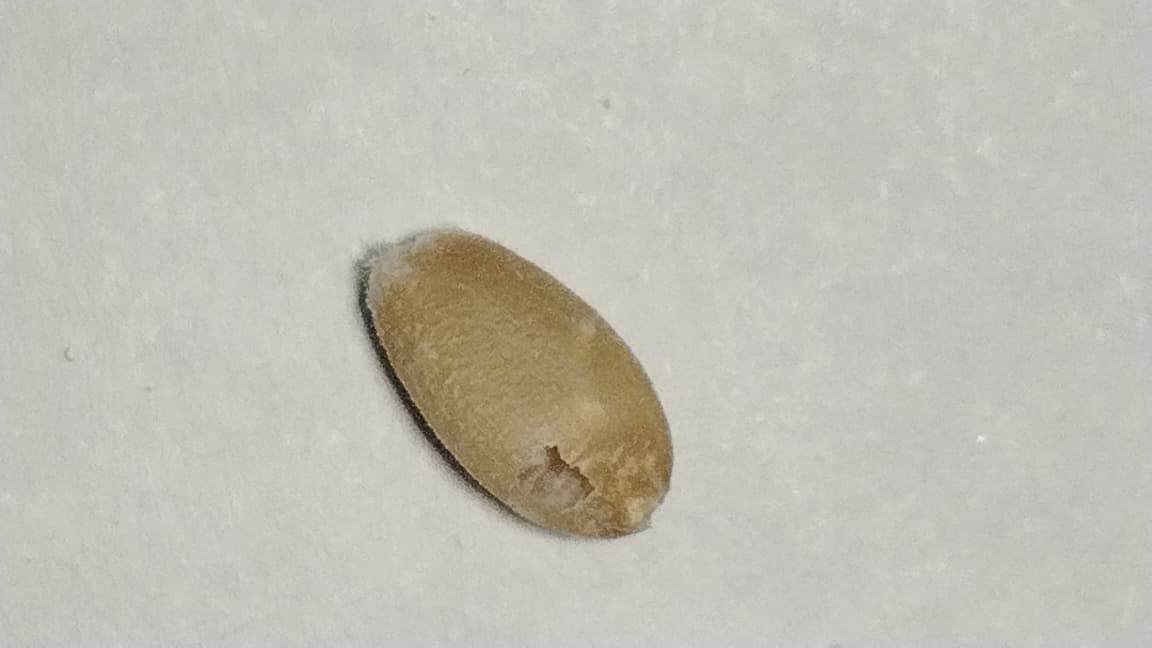damage: (365, 226, 672, 537)
insectdamage: (516, 390, 610, 514)
